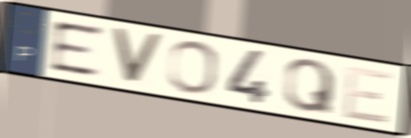4: (225, 47, 276, 108)
E: (339, 64, 395, 127), (49, 18, 106, 79)
O: (166, 39, 219, 97)
Q: (283, 57, 338, 117)
V: (109, 25, 167, 88)
